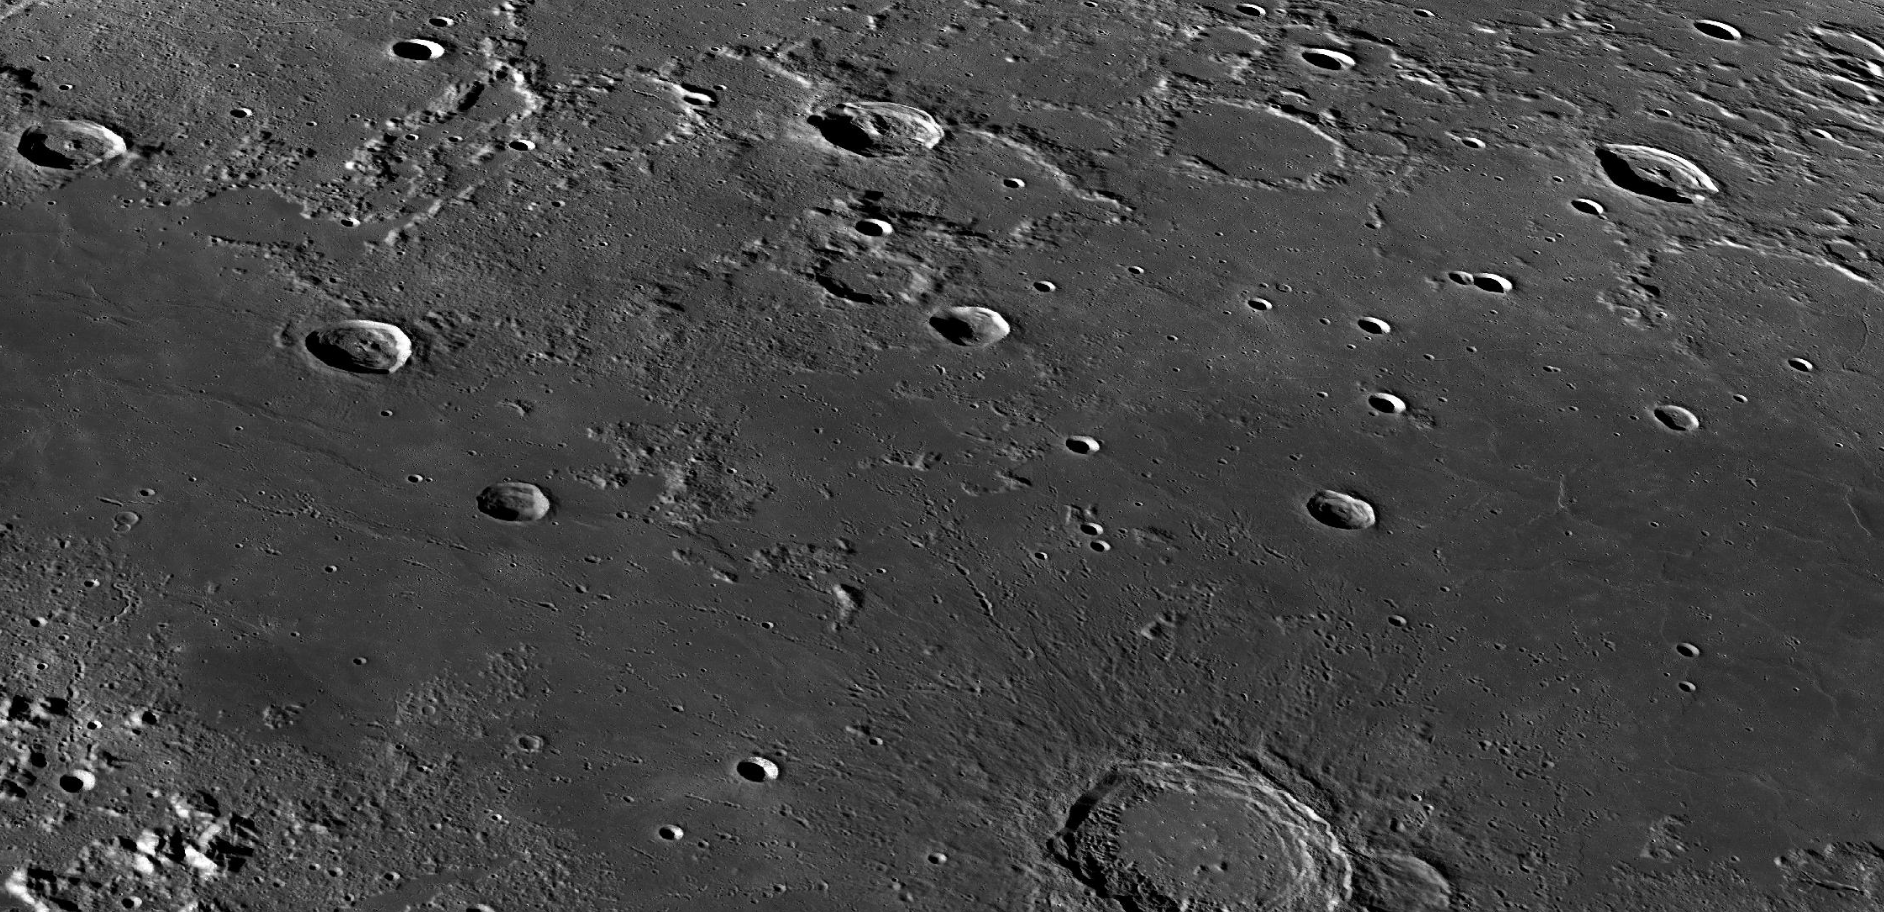crater: (876, 654, 1521, 910), (1554, 370, 1737, 496), (780, 78, 974, 181), (273, 285, 443, 387), (6, 100, 169, 198), (1014, 391, 1162, 491), (451, 465, 577, 574), (1761, 321, 1871, 424), (583, 777, 699, 874), (889, 287, 1018, 372), (1302, 470, 1411, 546), (364, 24, 453, 76)
